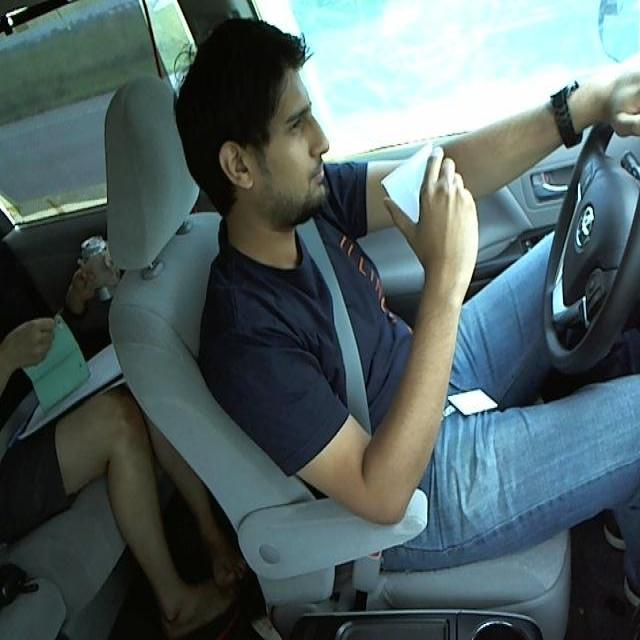Seatbelt: (386, 140, 449, 243)
